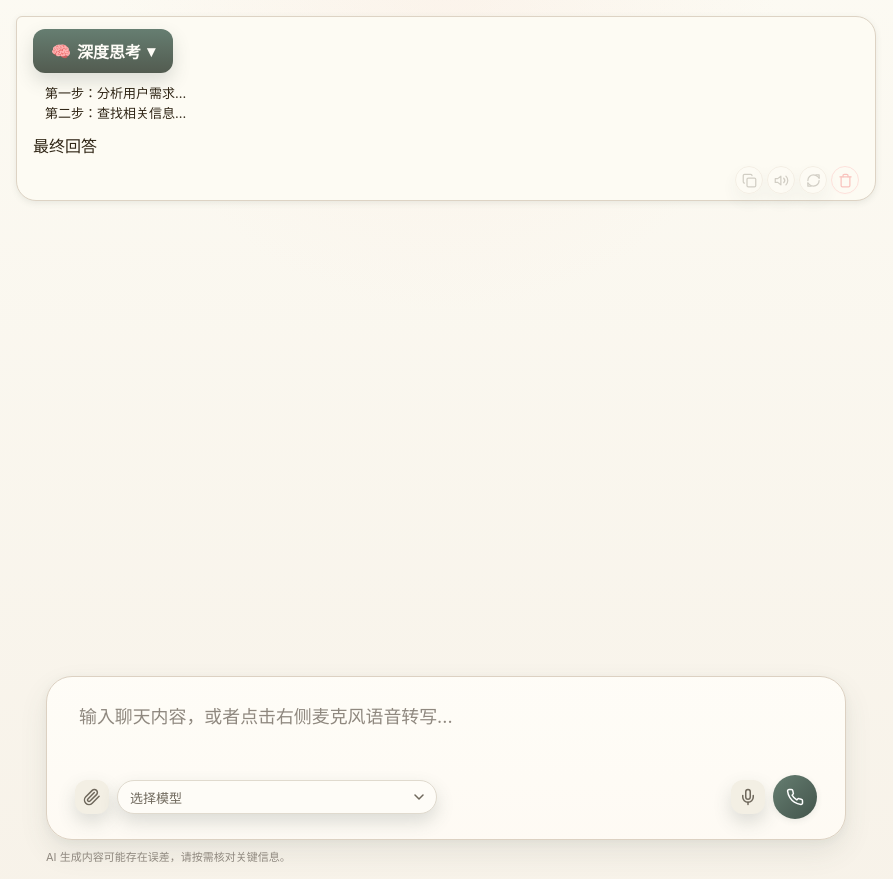
Scenario: ChatPage › renders deep thinking collapsible block when reasoningContent is present
Expected: the icon "🧠" is shown, [51,41,71,61]
Expected: the text "第一步：分析用户需求... 第二步：查找相关信息..." is shown, [45,85,186,121]
Click the text "深度思考" at (109, 51), box [77,39,141,63]
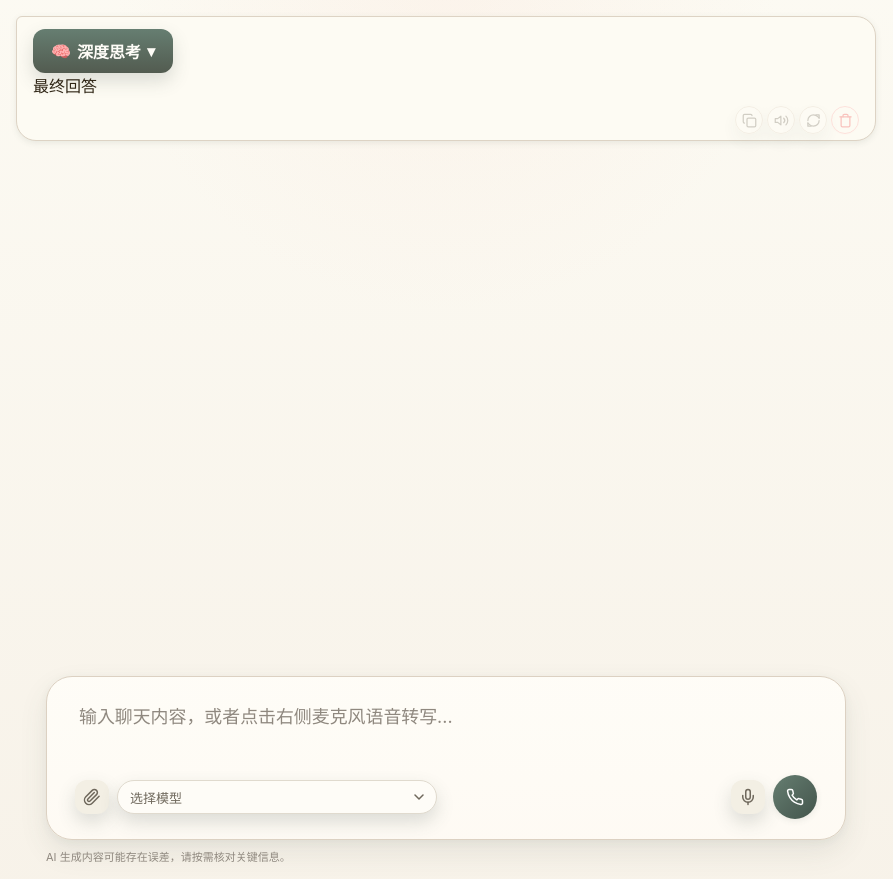
Now the text "第一步：分析用户需求" is gone
